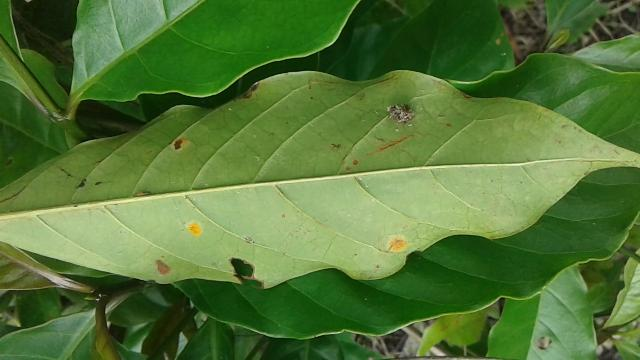rust_level_1: (0, 68, 640, 288)
